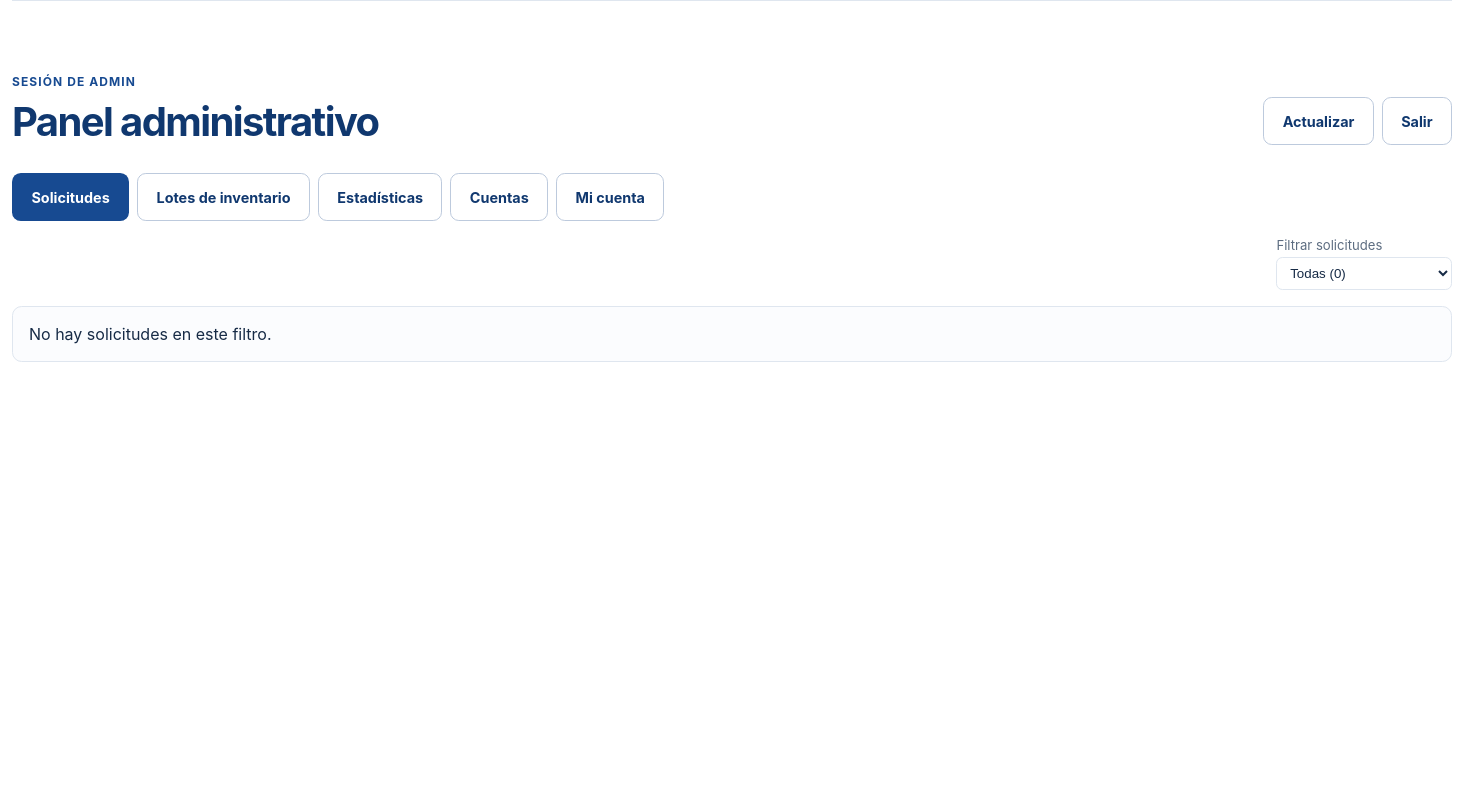
Test case: panel administrativo › abre la sección de lotes sin mezclar el flujo de solicitudes
Click the tab "Lotes de inventario": (224, 197) [137,173,310,221]
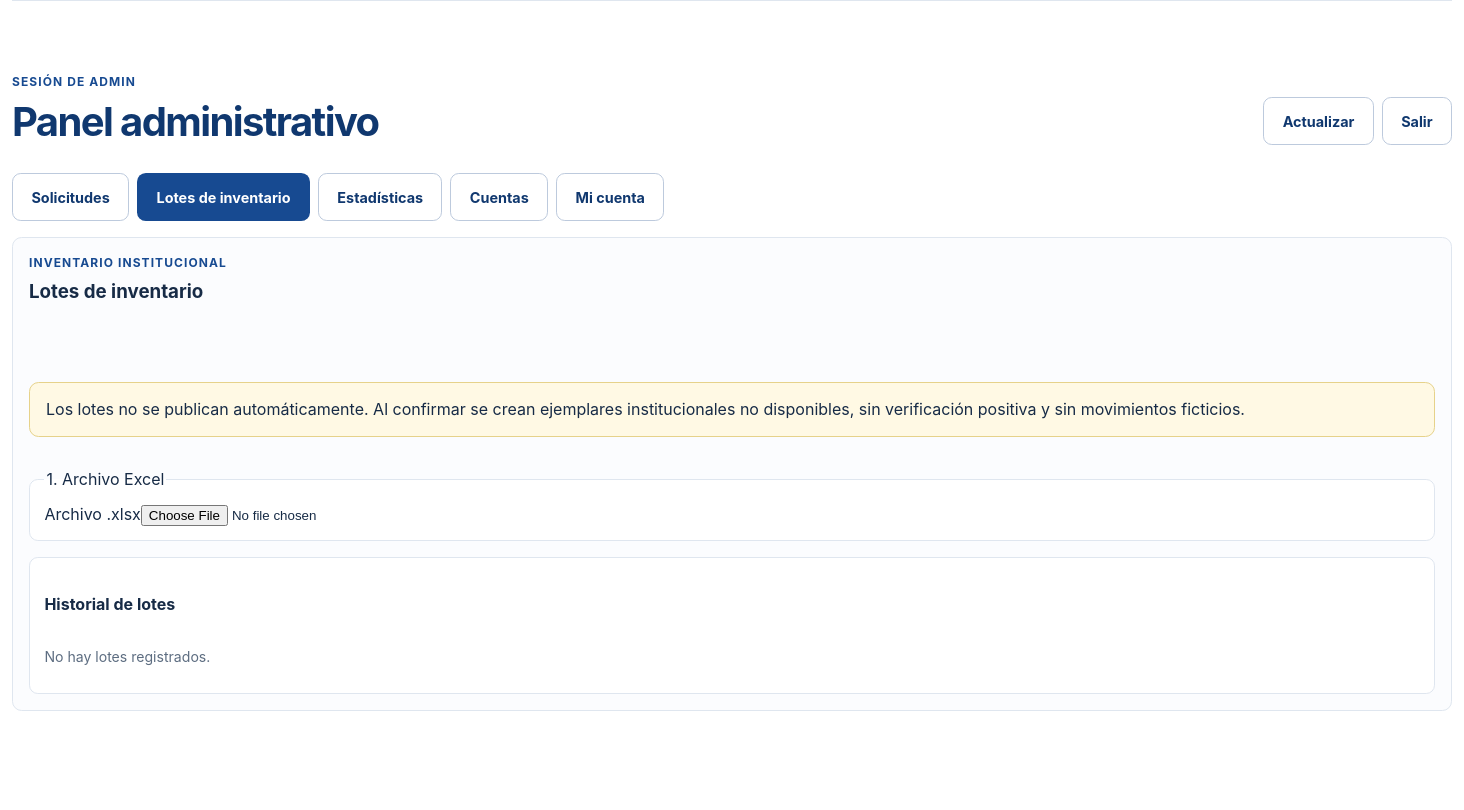
Check: the heading "Lotes de inventario" is shown, box [29,280,227,303]
Check: the text "no se publican automáticamente" is shown, box [46,399,1245,419]
